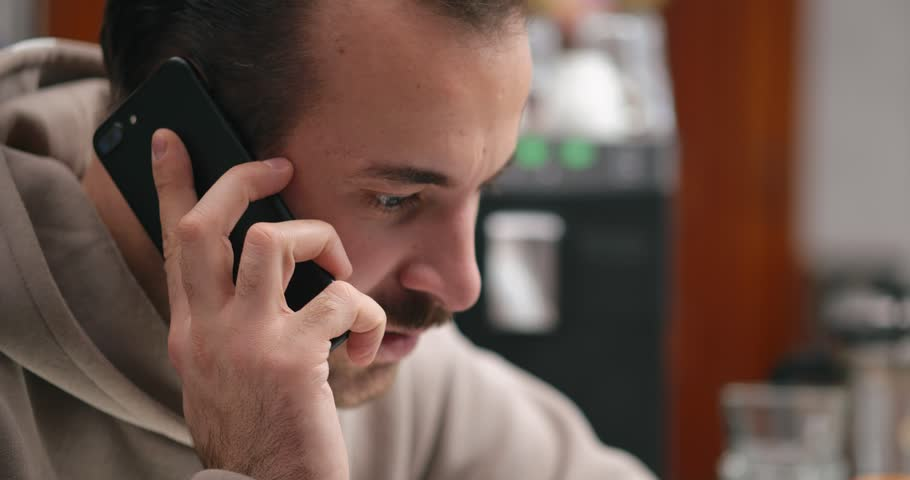phone: (91, 54, 357, 374)
talk: (91, 53, 526, 480)
